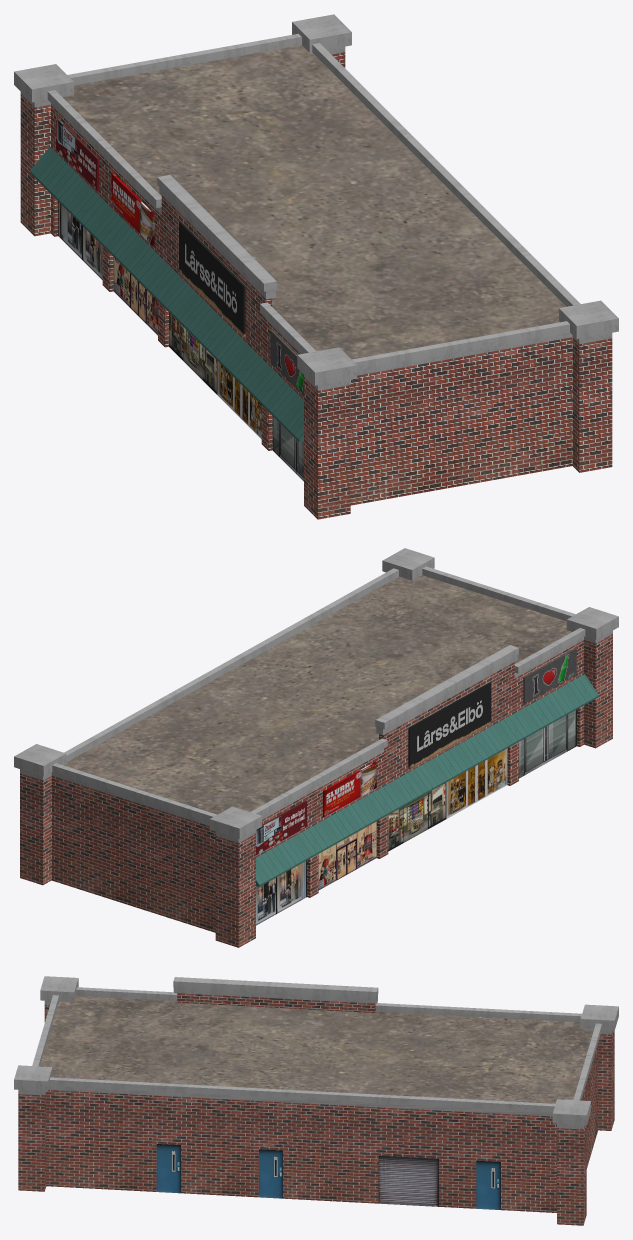
Rendered from Strip_Mall_01_2.FBX.
3 renders of one model, top to bottom at view 1: azimuth 30°, elevation 25°; view 2: azimuth 150°, elevation 25°; view 3: azimuth 270°, elevation 25°, orthographic. The views are drawn at different scales.
Visible parts, largest first — view 1: Strip_Mall_01_2; view 2: Strip_Mall_01_2; view 3: Strip_Mall_01_2.
Part boxes in pixels (x1,y1,x2,y2): Strip_Mall_01_2: (14, 14, 618, 519); Strip_Mall_01_2: (14, 548, 618, 947); Strip_Mall_01_2: (14, 976, 618, 1225).
Size of the model in its own units: 134 by 55.74 by 246.
